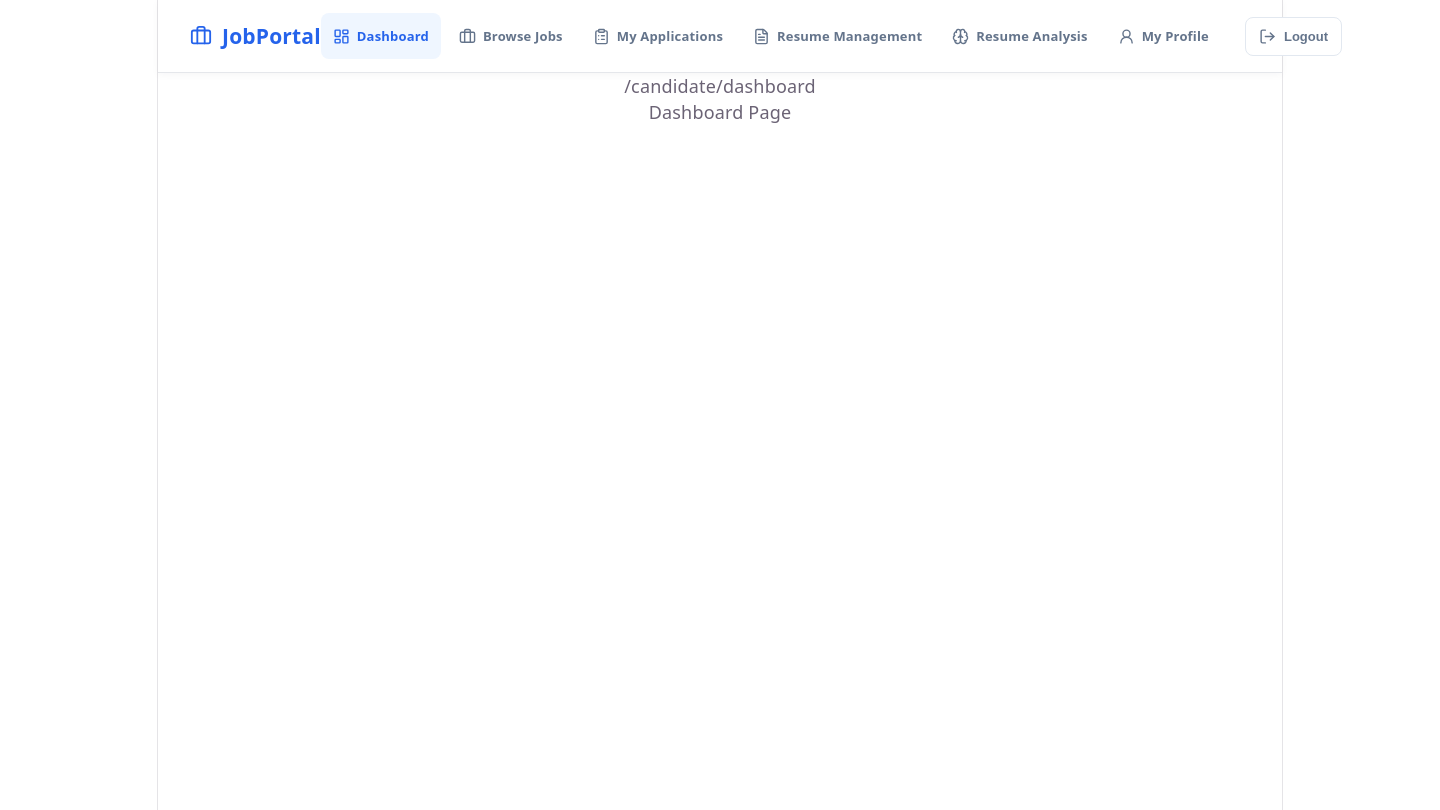
Test: CandidateNavbar › navigates to My Profile
This screenshot has width=1440, height=810.
Step 1. Click the link "My Profile" → [1163, 36], box [1118,27,1209,45]
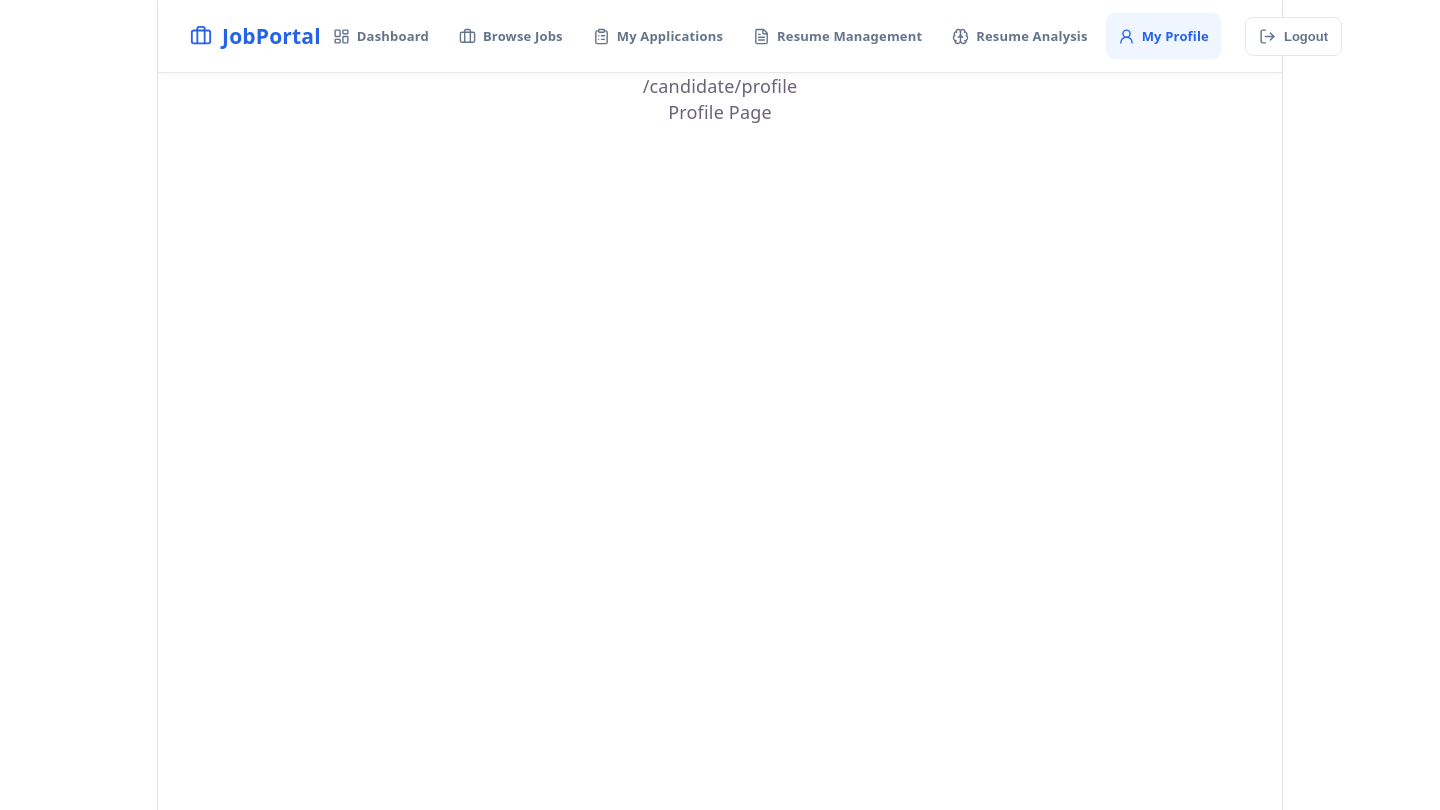
Result: the text with test id "current-location" reads "/candidate/profile" at [643,74,797,98]
